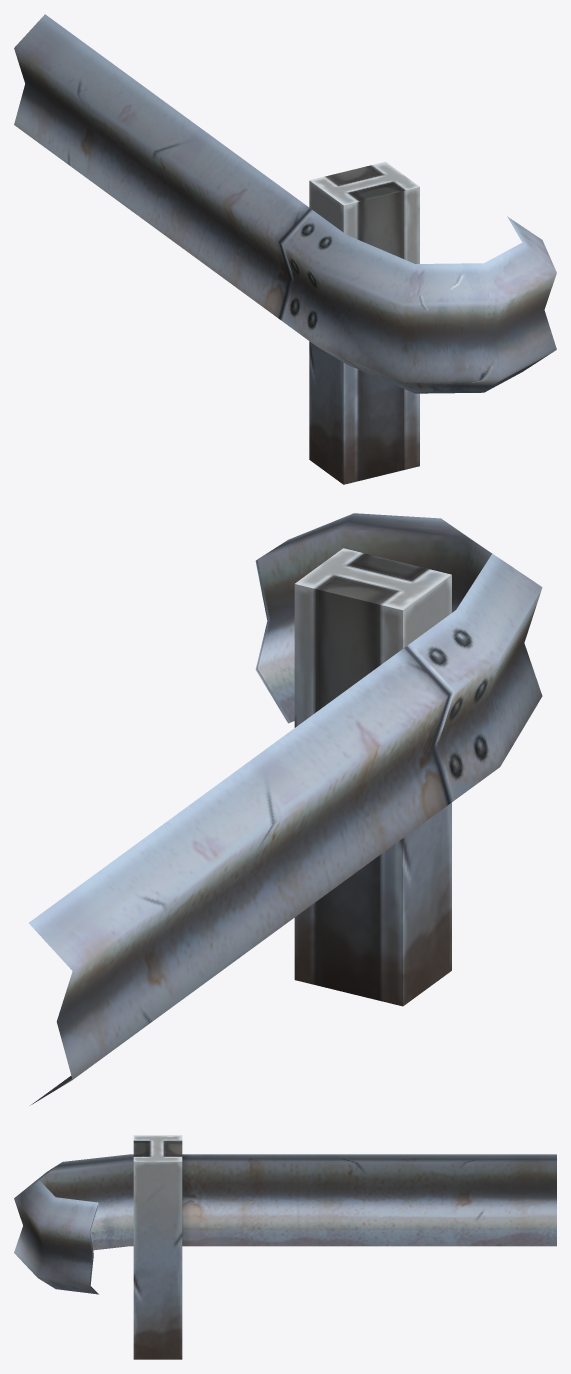
File: TRF0110016.fbx
3 renders of one model, top to bottom at view 1: azimuth 30°, elevation 25°; view 2: azimuth 150°, elevation 25°; view 3: azimuth 270°, elevation 25°, orthographic. The views are drawn at different scales.
Parts seen in each view (by area): view 1: smTRF0110016; view 2: smTRF0110016; view 3: smTRF0110016.
Boxes of the visible parts, x1=… form: smTRF0110016: x1=14, y1=14, x2=556, y2=484; smTRF0110016: x1=29, y1=513, x2=542, y2=1105; smTRF0110016: x1=14, y1=1135, x2=556, y2=1359.
Bounding box in the file's own units: 61.5 × 82.17 × 204.
Materials: 1 (1 with a texture image).
